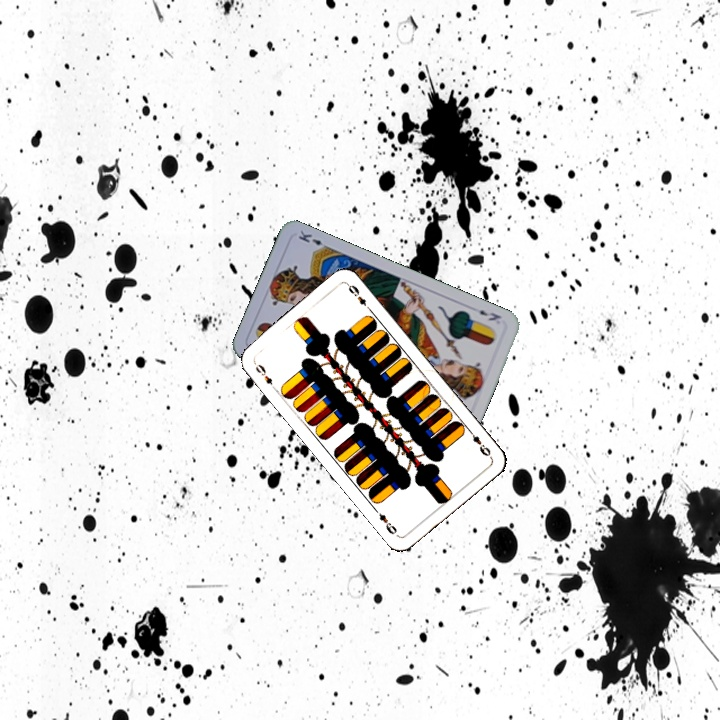E9: (250, 358, 279, 393), (464, 426, 493, 459)
EK: (475, 306, 504, 323)
